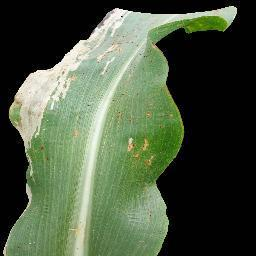Corn_Common_Rust: (48, 4, 241, 69), (3, 68, 53, 166), (122, 132, 166, 178), (55, 70, 75, 109), (17, 177, 34, 215), (0, 225, 14, 256), (67, 223, 86, 244), (104, 90, 125, 106), (67, 127, 84, 140), (143, 109, 157, 120), (94, 69, 110, 78), (115, 114, 126, 121), (84, 102, 92, 110)
